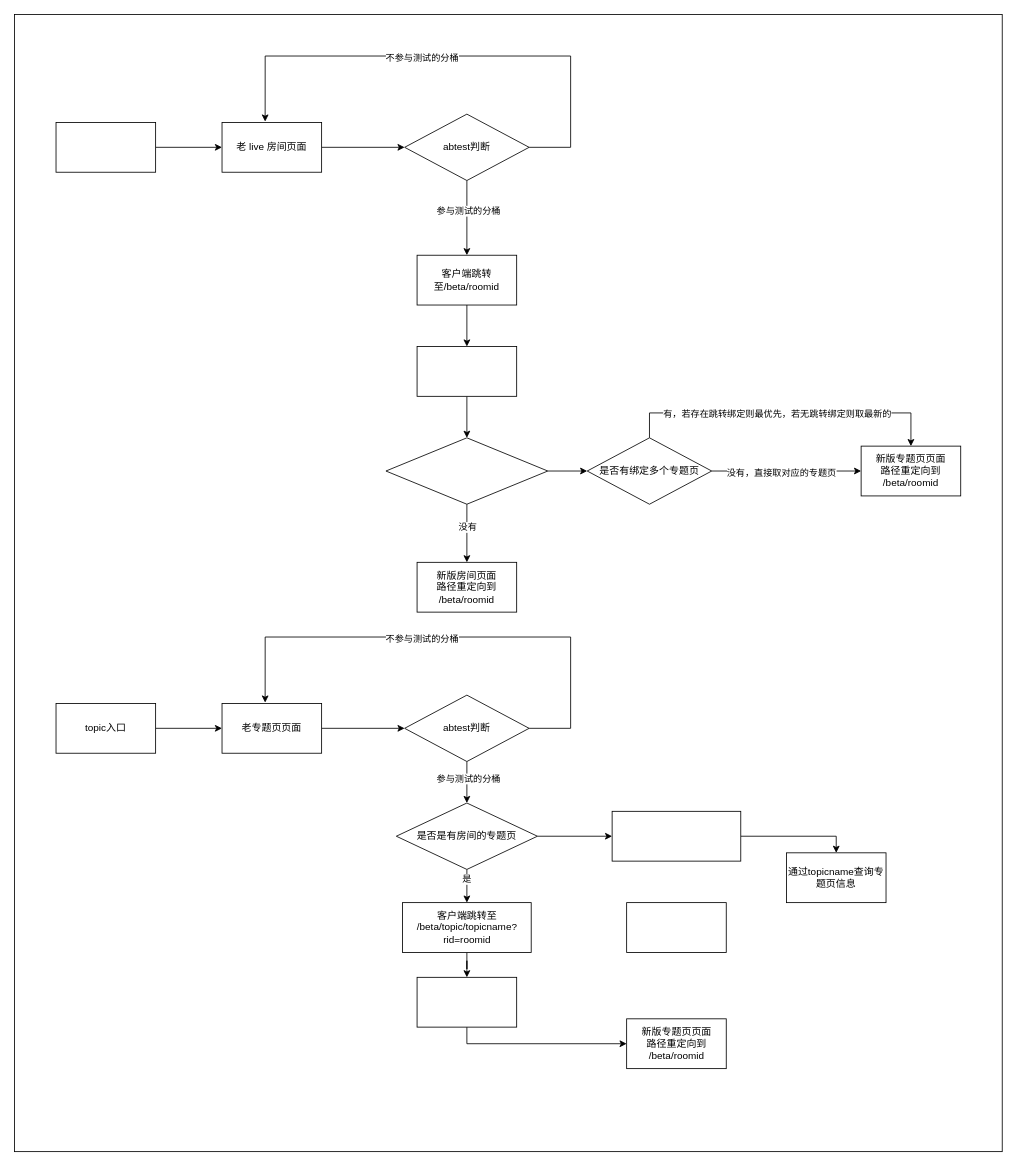
Some shapes in this 1017 by 1166 pixel diagram are drawn without their labels. Here are the shapes that lost their labels. From the top down, the centre of each, then its label:
[105,147]: 房间号 入口
[466,371]: 通过roomid参数查询房间信息
[466,470]: 是否有绑定的专题页
[676,835]: 客户端跳转至 /beta/topic/topicname
[676,927]: 新版专题页页面
[466,1001]: 通过roomid + topicname参数查询房间信息
